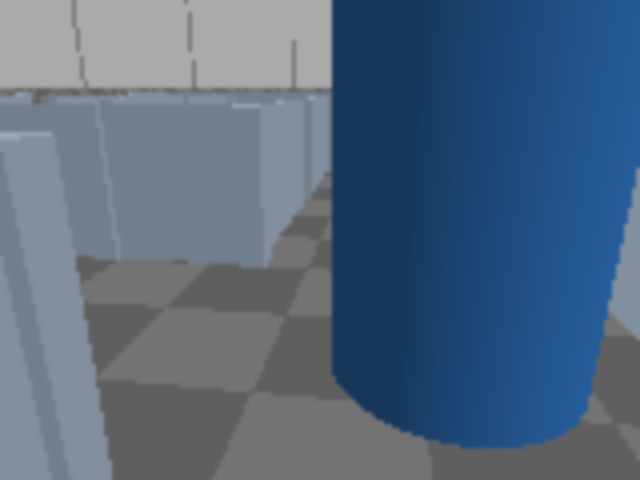person: (331, 0, 638, 447)
